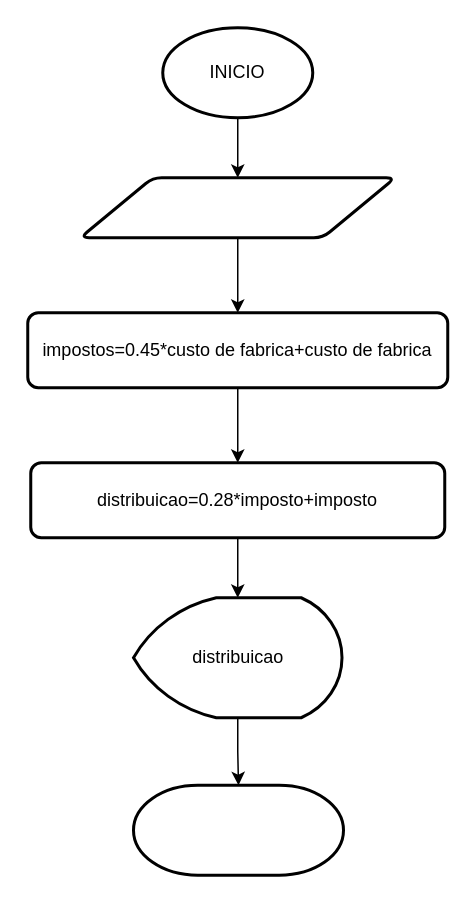
This 474x902 diagram has some shape labels left out. Here are the shapes that lost their labels. From the top down, the box of each, then its label:
(78, 176, 396, 238): custo de fabrica do carro
(131, 783, 344, 876): FIM
